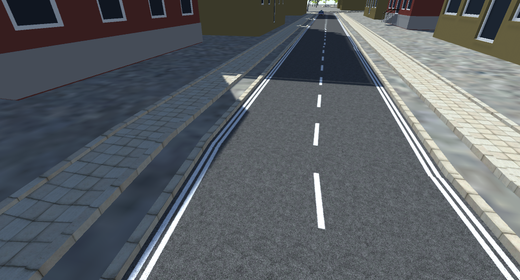centerstrip: (311, 39, 332, 265)
sidestripe: (352, 53, 520, 280), (128, 129, 235, 280), (221, 46, 293, 129)
